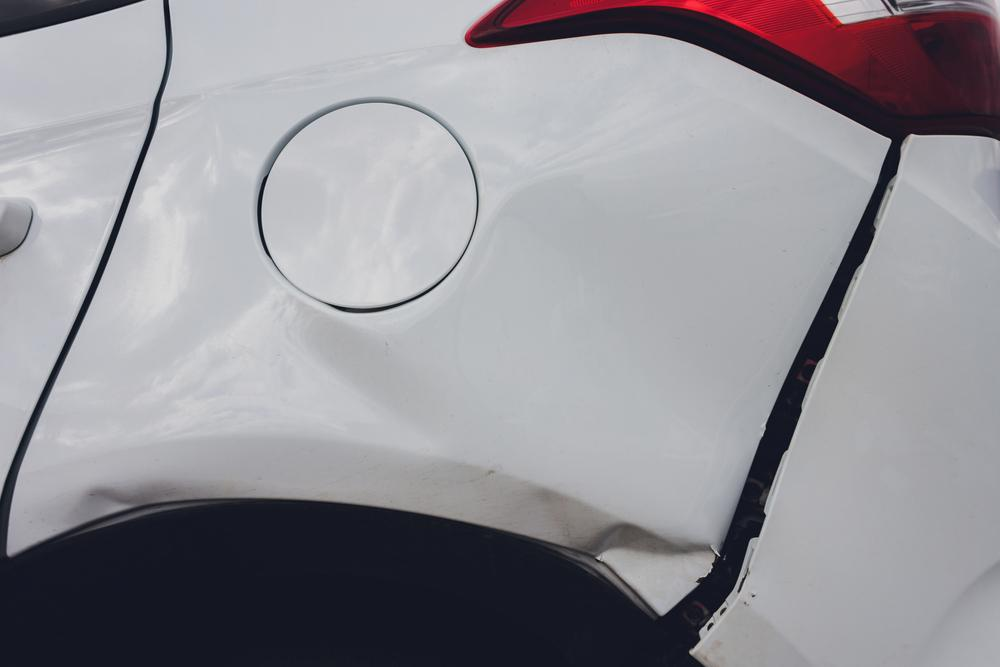dent: (62, 107, 842, 617)
